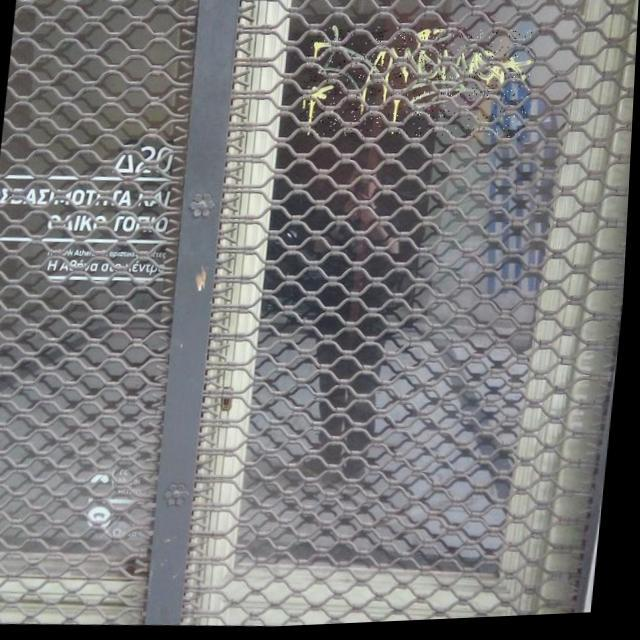-: (299, 22, 536, 152)
